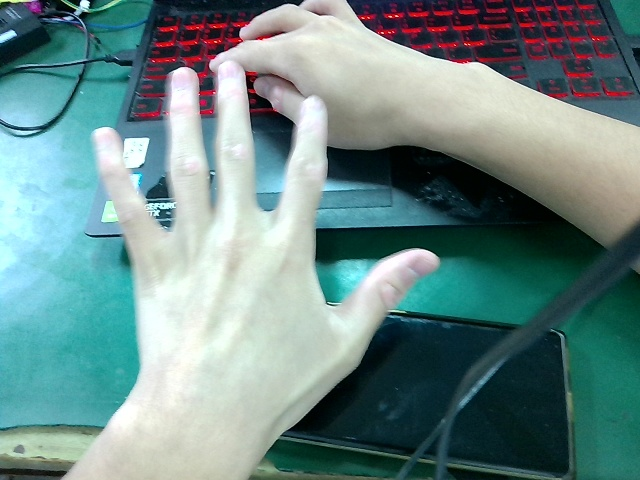paper: (83, 57, 427, 459)
